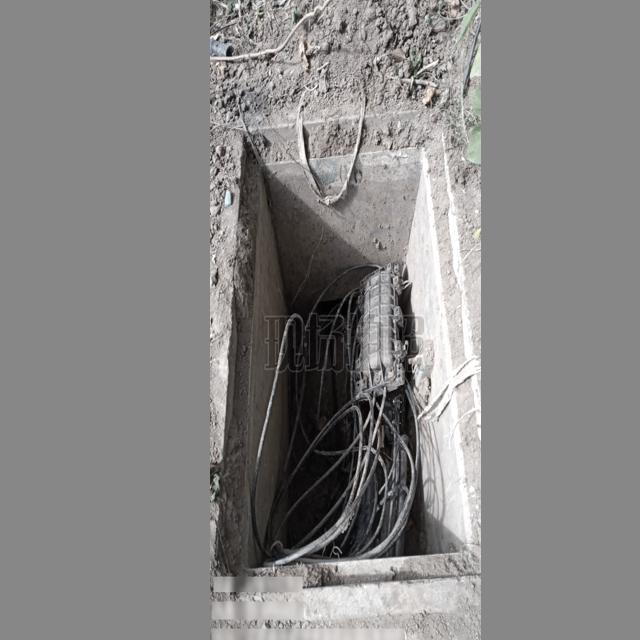lose: (218, 91, 475, 605)
